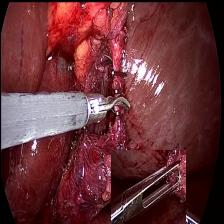Grasper: (110, 149, 185, 224)
Scissors: (84, 83, 132, 125)
